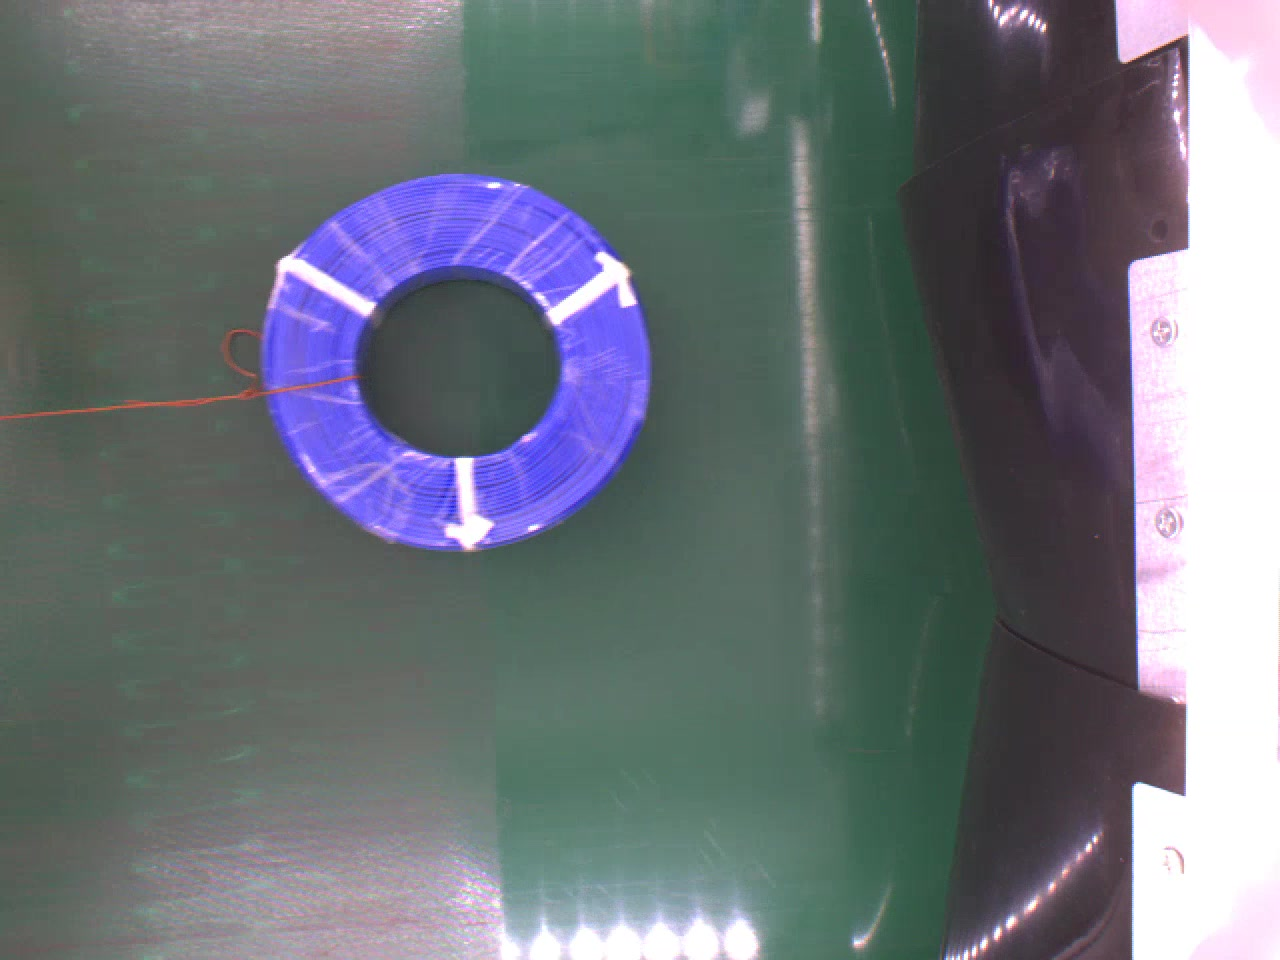blue: (259, 170, 657, 564)
